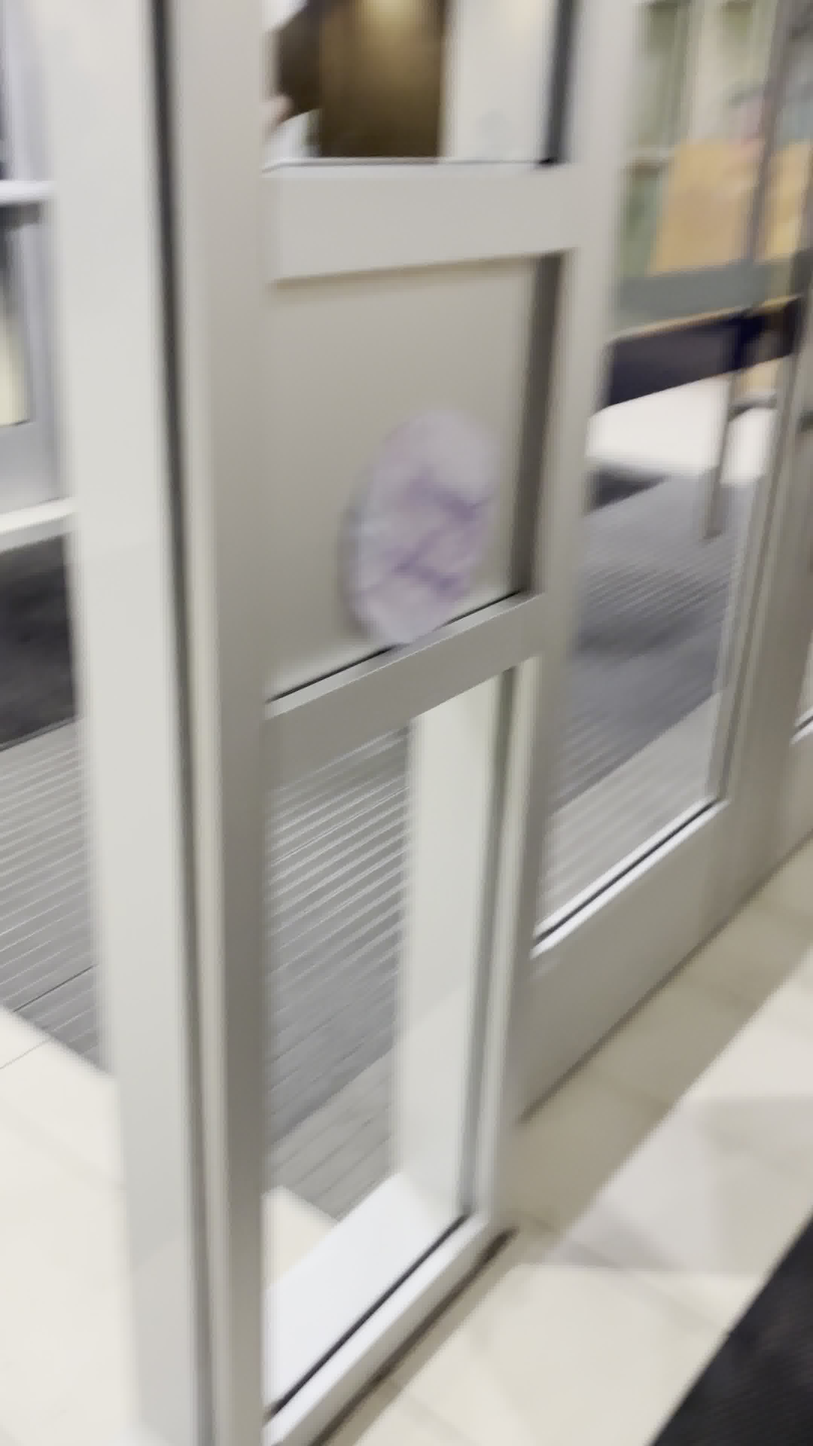Target: (344, 407, 511, 652)
